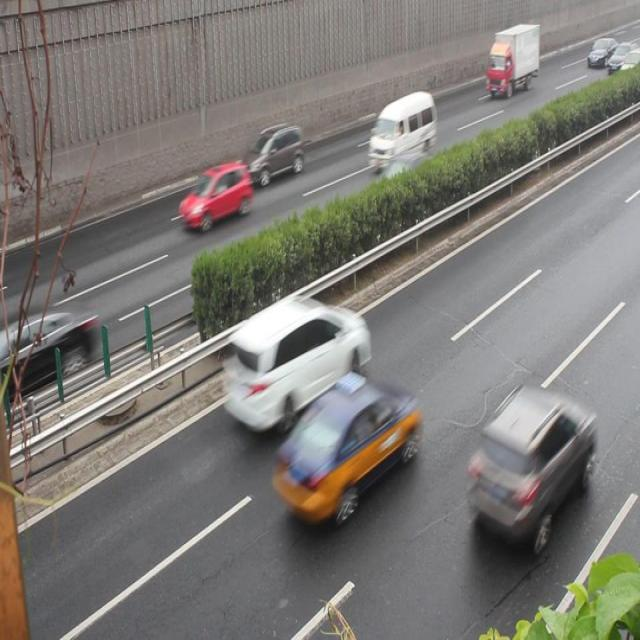bus: (485, 24, 540, 97)
car: (271, 378, 416, 524), (465, 383, 592, 546), (222, 295, 368, 432), (0, 308, 96, 400), (362, 152, 437, 223), (178, 162, 253, 229), (240, 125, 306, 186)
truck: (368, 91, 436, 171)
